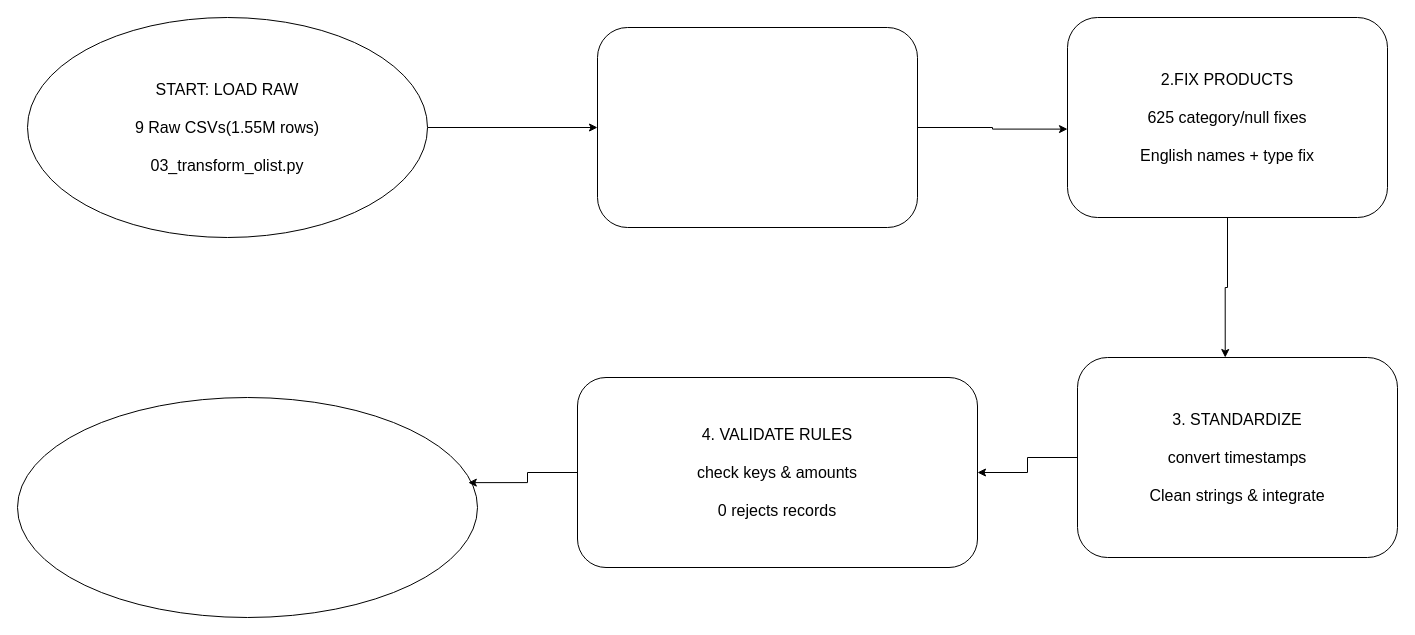
Image size: 1415x635. Some labels were removed from this diagram. The shapes that lost their labels are listed below. From the top down, each one's centre as x and y in pixels, then its label:
point (757, 127): 1. DEDUPLICATE GEO 1,00,163 -> 19,015 rows Unique zip code prefixes
point (247, 507): END : 8 CLEAN CSVs 5,69,703 clean records 03_transformation_audit.csv
